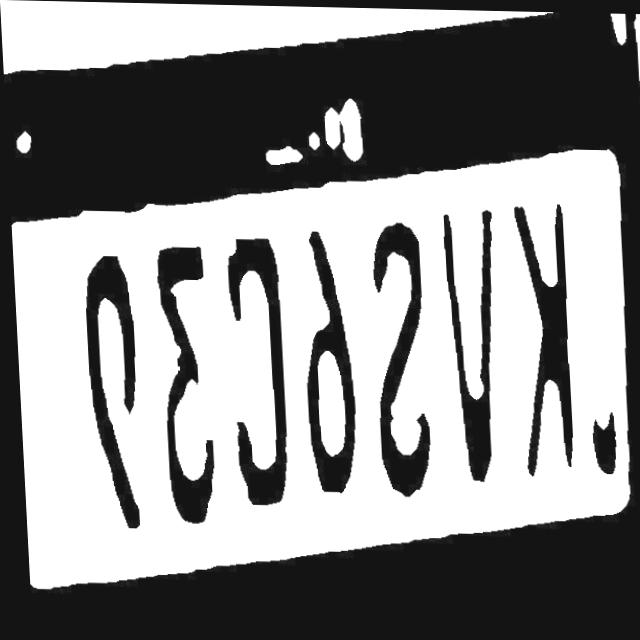3: (146, 238, 219, 537)
6: (286, 214, 364, 511)
9: (70, 252, 147, 541)
c: (218, 218, 288, 521)
k: (507, 188, 581, 484)
s: (358, 200, 438, 503)
v: (430, 185, 506, 493)
